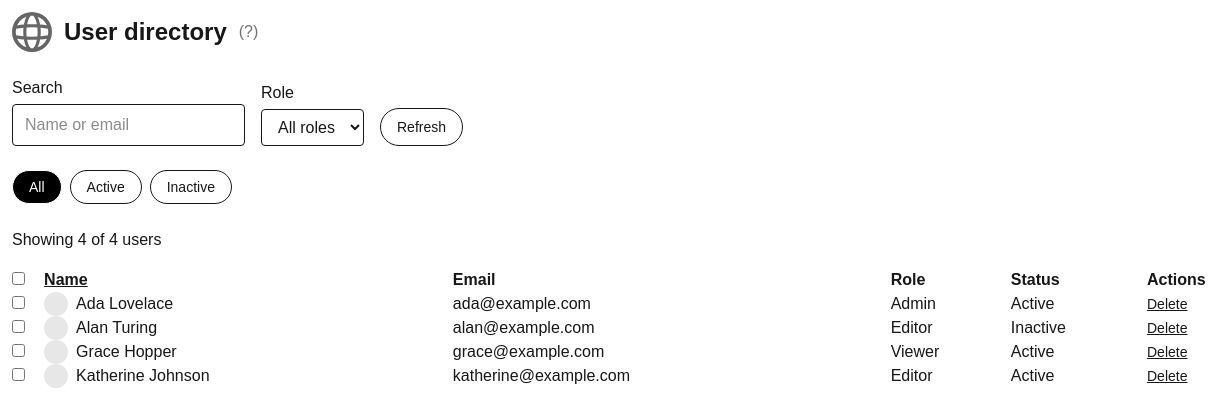
Test case: debounced search › passes the query to the server and renders the result
In the search field labelled "Search": x=128, y=125 [12, 104, 245, 146], type "grace"
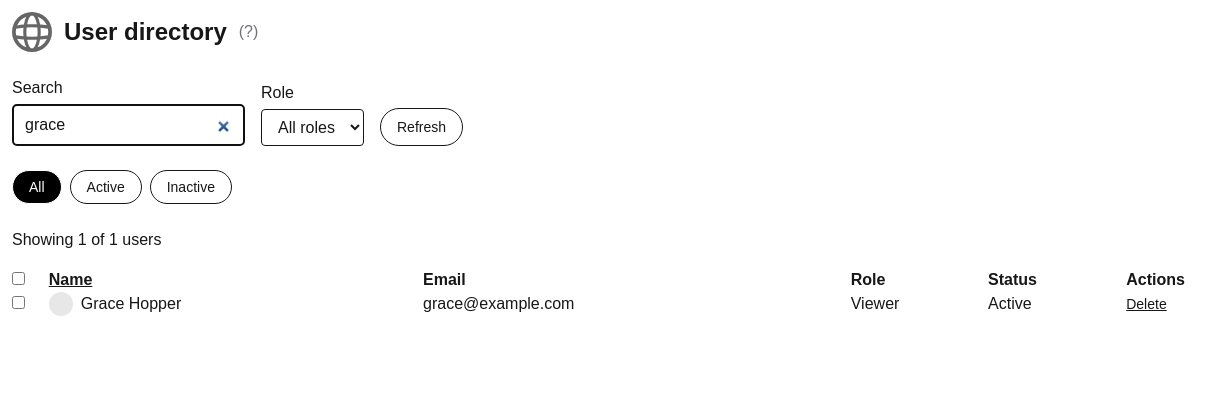
Result: the text with test id "result-summary" reads "Showing 1 of 1 users" at [12, 228, 162, 252]
